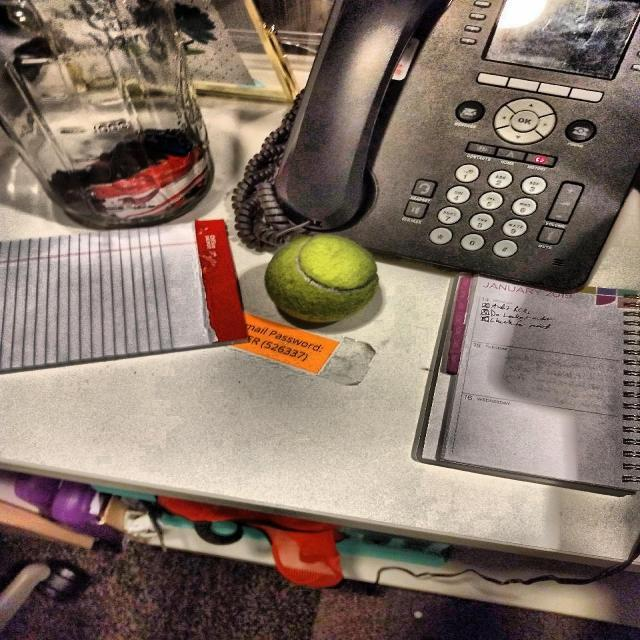tennis-ball: (262, 234, 382, 326)
